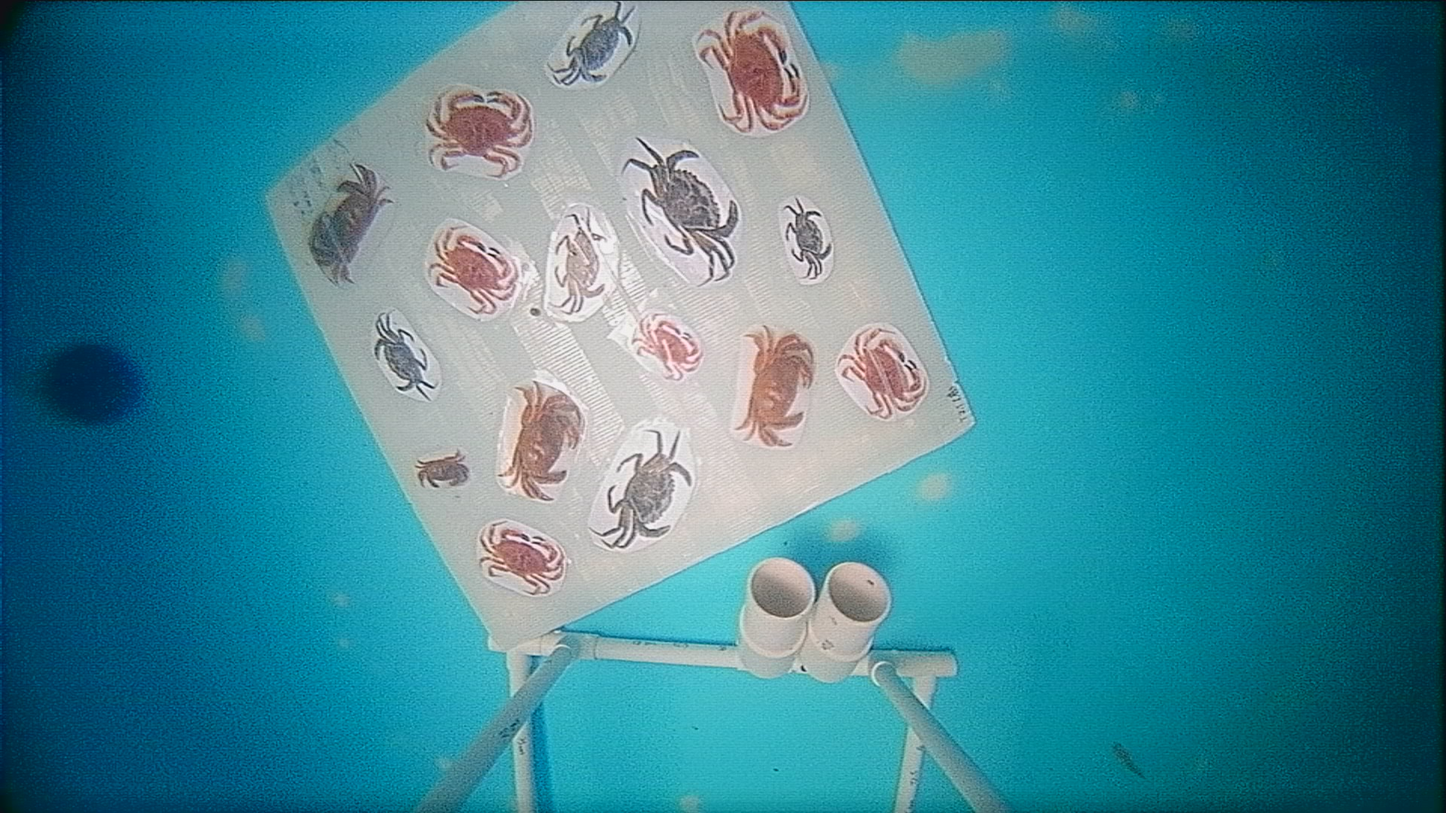GreenCrab: (624, 139, 737, 281), (590, 429, 691, 548), (549, 0, 633, 86), (374, 313, 436, 399), (785, 198, 831, 279)
